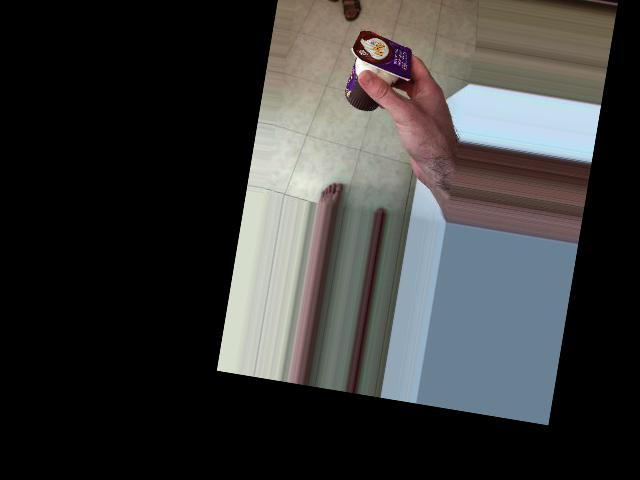milky: (344, 28, 411, 113)
